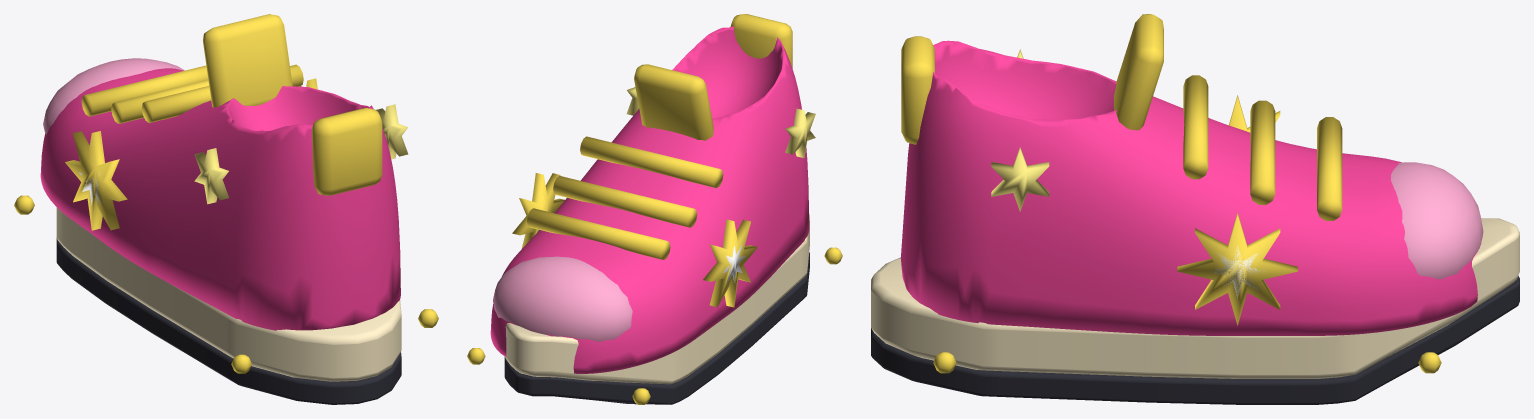
Rendered from shoe_novasneakers.fbx.
3 views of the same model, side by side, from view 1: azimuth 30°, elevation 25°; view 2: azimuth 150°, elevation 25°; view 3: azimuth 270°, elevation 25° (orthographic). The views are drawn at different scales.
Parts seen in each view (by area): view 1: shoe_novasneakers; view 2: shoe_novasneakers; view 3: shoe_novasneakers.
Boxes of the visible parts, x1,y1,x2,y2 form: shoe_novasneakers: (14,14,438,404); shoe_novasneakers: (467,14,842,404); shoe_novasneakers: (871,14,1519,404).
Bounding box in the file's own units: 1.73 × 2.13 × 3.88.
1 material, 1 textured.
